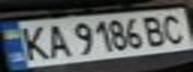1: (90, 17, 112, 53)
6: (124, 16, 148, 51)
8: (109, 16, 130, 52)
9: (69, 19, 97, 56)
A: (39, 20, 72, 60)
B: (139, 14, 172, 48)
C: (157, 11, 190, 45)
K: (15, 23, 51, 62)
